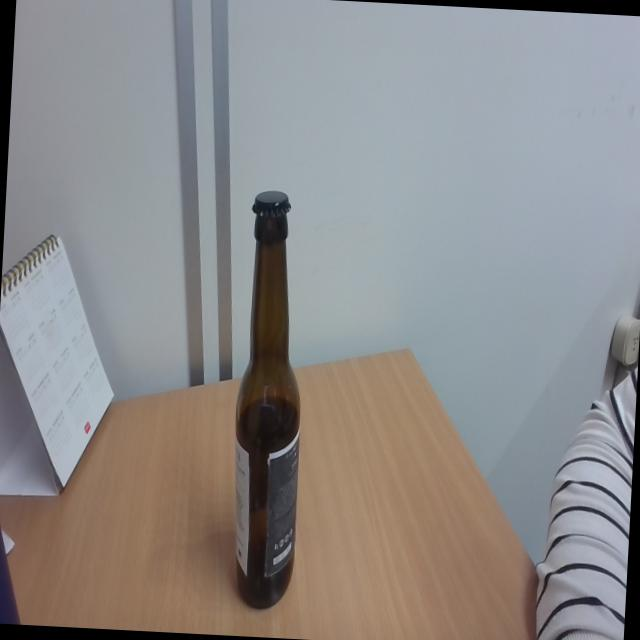Bottle: (225, 187, 314, 610)
Cap: (250, 189, 294, 224)
Label: (232, 438, 300, 580)
